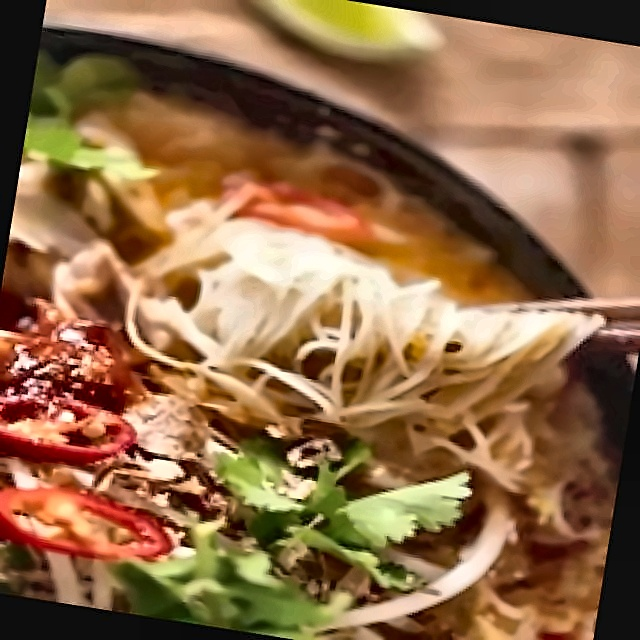noodle: (101, 200, 626, 538)
